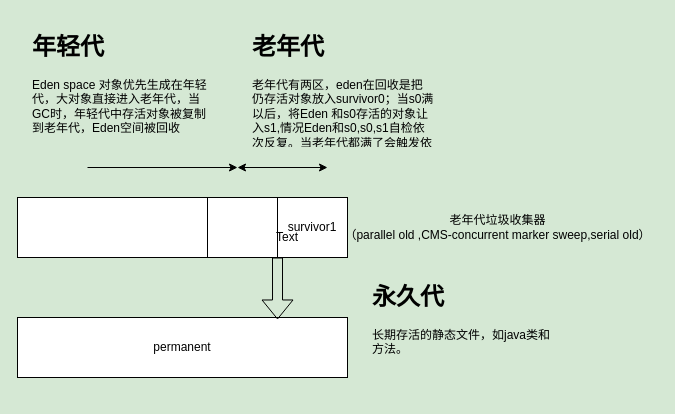
This 675x414 diagram has some shape labels left out. The box of each missing label's shape, as (x1, y1, x2, y2) in pixels:
Eden （垃圾收集器：Serial,ParNew,parallel scavenge）: (16, 196, 208, 258)
survivor0: (206, 196, 278, 258)
